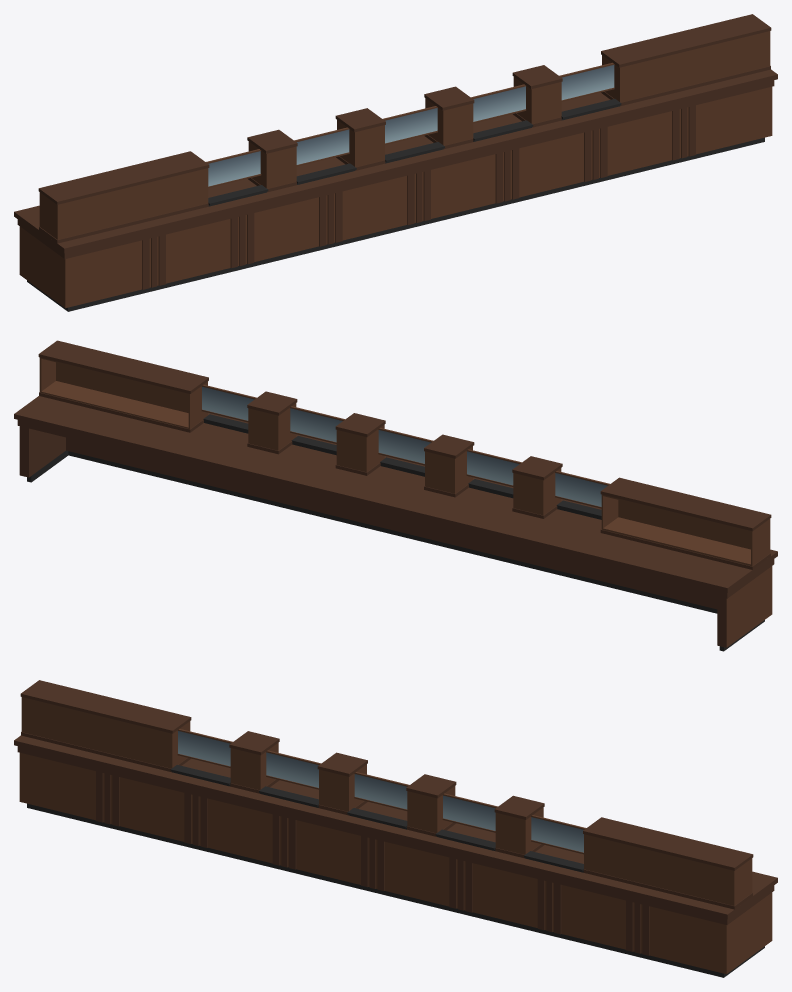
Rendered from SM_Props_Reception_04.fbx.
3 views of the same model, one above another, from view 1: azimuth 30°, elevation 25°; view 2: azimuth 150°, elevation 25°; view 3: azimuth 330°, elevation 25° (orthographic).
Visible parts, largest first — view 1: SM_Props_Reception_04; view 2: SM_Props_Reception_04; view 3: SM_Props_Reception_04.
Part boxes in pixels (left/top/right/bottom): SM_Props_Reception_04: left=14, top=14, right=777, bottom=311; SM_Props_Reception_04: left=14, top=340, right=777, bottom=651; SM_Props_Reception_04: left=14, top=680, right=777, bottom=977.
Bounding box in the file's own units: 9 × 1.33 × 1.1.
